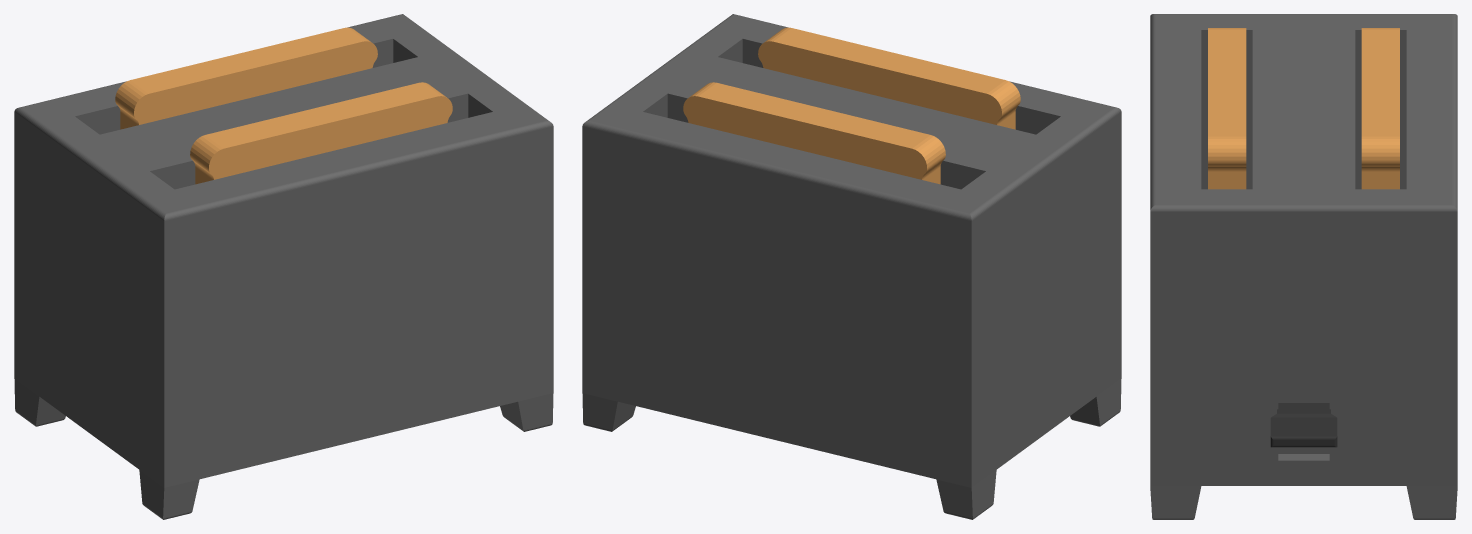
Rendered from Toaster.fbx.
3 renders of one model, left to right at view 1: azimuth 30°, elevation 25°; view 2: azimuth 150°, elevation 25°; view 3: azimuth 270°, elevation 25°, orthographic. The views are drawn at different scales.
Parts seen in each view (by area): view 1: Toaster, Toast2, Toast1; view 2: Toaster, Toast1, Toast2; view 3: Toaster, Toast1, Toast2, Handle.
Boxes of the visible parts, bbox=[...] form: Toaster: bbox=[14, 14, 553, 519]; Toast2: bbox=[115, 27, 377, 129]; Toast1: bbox=[190, 82, 452, 184]; Toaster: bbox=[582, 14, 1121, 519]; Toast1: bbox=[758, 27, 1020, 129]; Toast2: bbox=[683, 82, 945, 184]; Toaster: bbox=[1150, 14, 1457, 519]; Toast1: bbox=[1208, 28, 1246, 189]; Toast2: bbox=[1361, 28, 1399, 189]; Handle: bbox=[1270, 403, 1337, 447].
Bounding box in the file's own units: 68.23 × 48.8 × 40.
